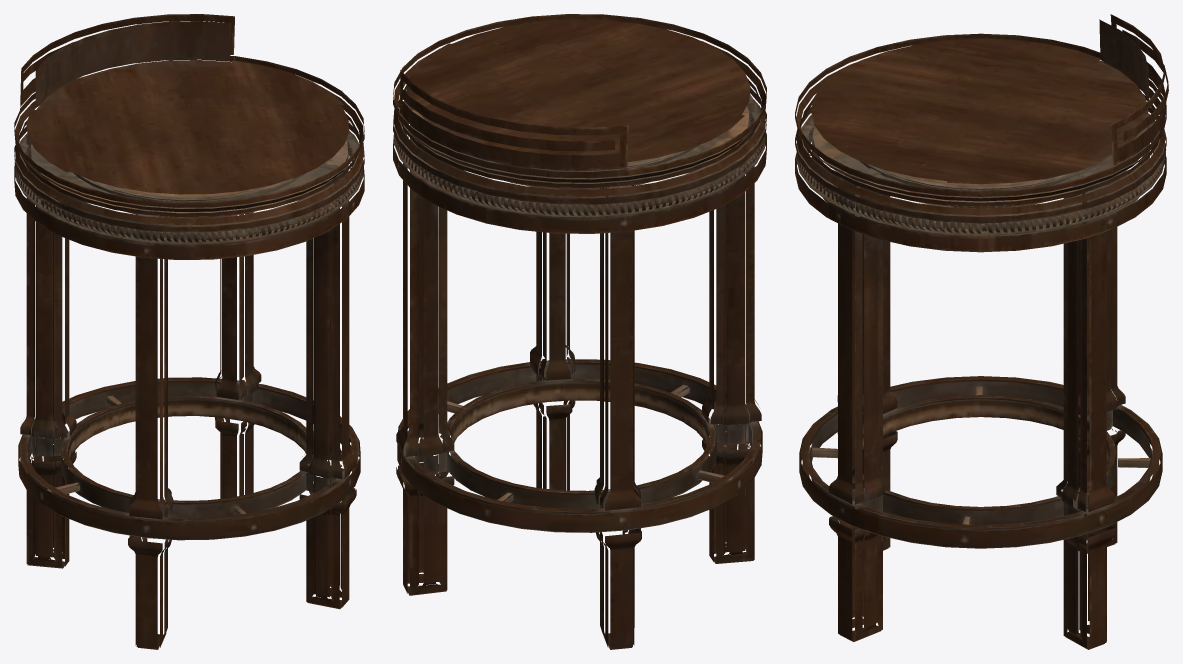
Rendered from bar_chair_round_01.glb.
3 renders of one model, left to right at view 1: azimuth 30°, elevation 25°; view 2: azimuth 150°, elevation 25°; view 3: azimuth 270°, elevation 25°, orthographic. The views are drawn at different scales.
Parts seen in each view (by area): view 1: bar_chair_round_01; view 2: bar_chair_round_01; view 3: bar_chair_round_01.
Boxes of the visible parts, left/top/right/bottom form: bar_chair_round_01: left=14, top=14, right=364, bottom=649; bar_chair_round_01: left=393, top=14, right=766, bottom=649; bar_chair_round_01: left=795, top=14, right=1168, bottom=649.
Bounding box in the file's own units: 0.4832 × 0.7493 × 0.486.
Materials: 1 (1 with a texture image).
